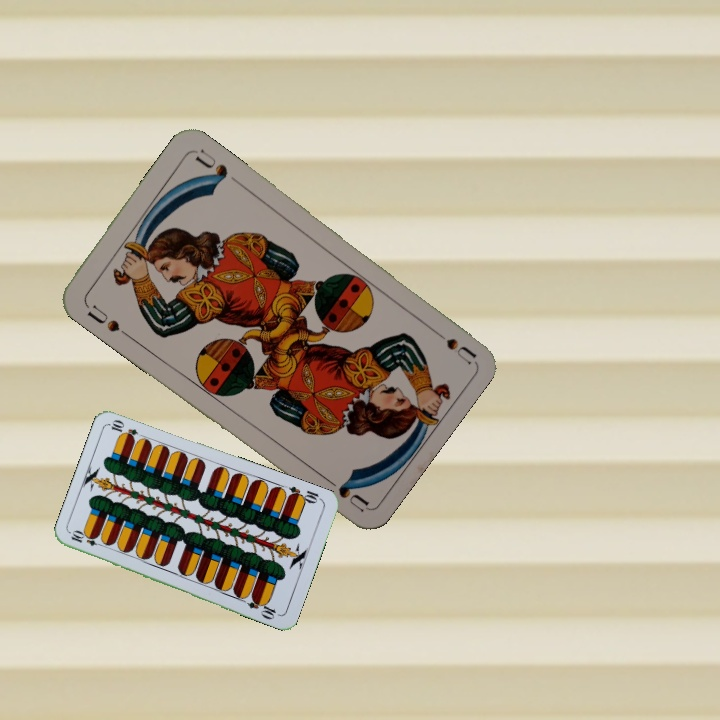E10: (284, 482, 324, 506), (67, 528, 107, 549)
SU: (424, 322, 477, 366), (83, 301, 132, 340)
